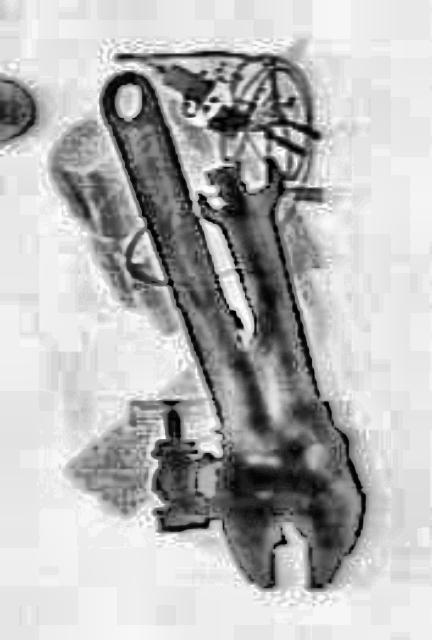Wrench: (56, 28, 374, 630), (190, 145, 388, 589)
